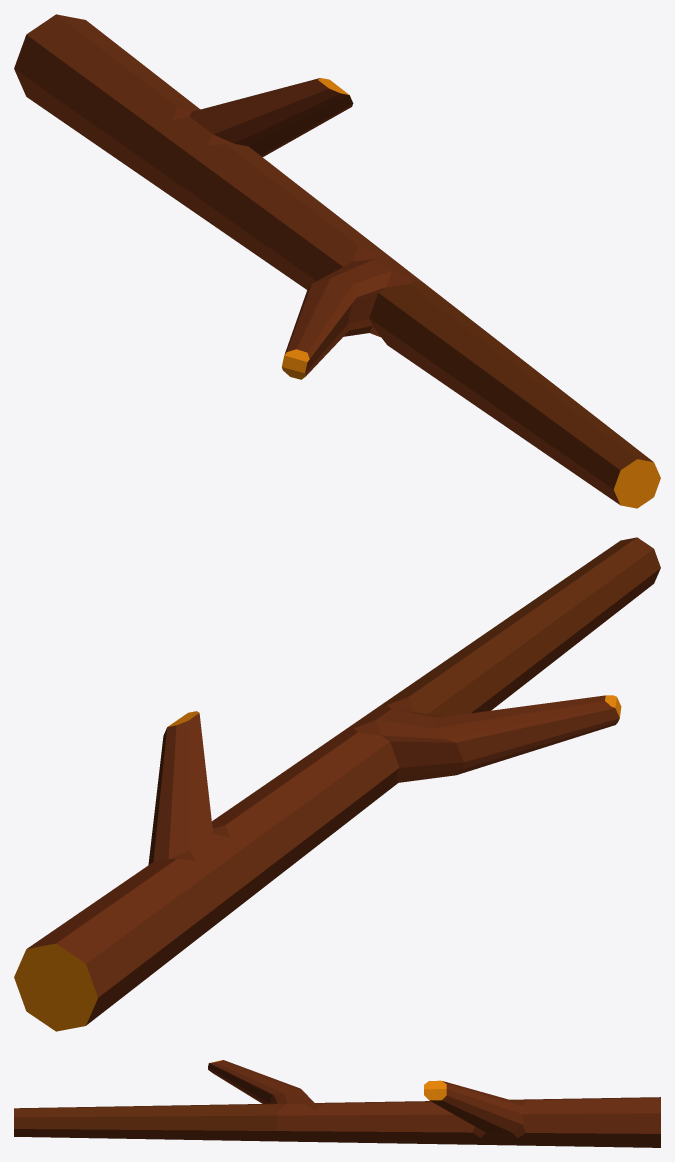
Rendered from Stick_45.fbx.
The picture shows the model from 3 angles, top to bottom: view 1: azimuth 30°, elevation 25°; view 2: azimuth 150°, elevation 25°; view 3: azimuth 270°, elevation 25°; orthographic projection. The views are drawn at different scales.
Visible parts, largest first — view 1: Circle.418; view 2: Circle.418; view 3: Circle.418.
Boxes of the visible parts, x1,y1,x2,y2 form: Circle.418: (14, 14, 660, 508); Circle.418: (14, 537, 660, 1031); Circle.418: (14, 1060, 660, 1147).
Size of the model in its own units: 10.4 by 5.83 by 40.73.
